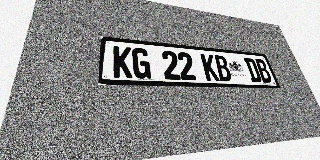2: (161, 50, 181, 80), (177, 52, 196, 80)
B: (213, 55, 233, 81), (254, 59, 273, 83)
D: (243, 58, 263, 82)
G: (132, 47, 151, 79)
K: (113, 46, 132, 78), (200, 54, 220, 81)
